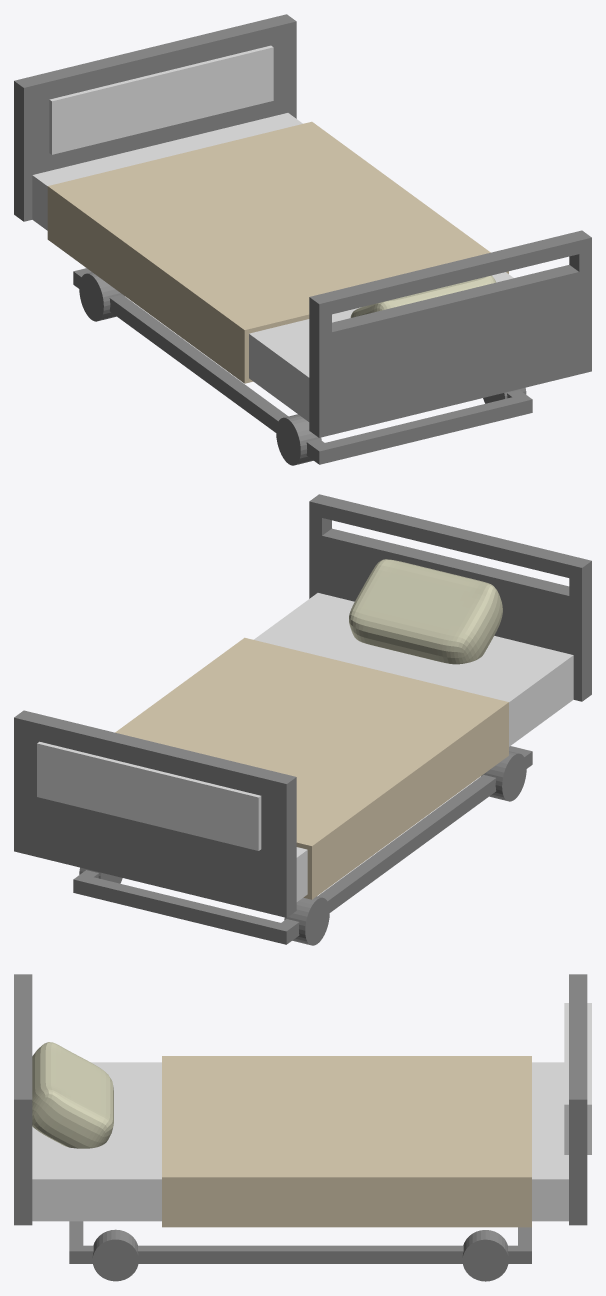
The model's file is Hospitalbed.fbx.
3 views of the same model, one above another, from view 1: azimuth 30°, elevation 25°; view 2: azimuth 150°, elevation 25°; view 3: azimuth 270°, elevation 25° (orthographic). The views are drawn at different scales.
Visible parts, largest first — view 1: Planket, Southframe, Northframe, Add_North, Mainframe, Wheelframe, Wheel.003, Wheel.002, Pillow; view 2: Planket, Northframe, Southframe, Mainframe, Add_North, Pillow, Wheelframe, Wheel.002, Wheel.003; view 3: Planket, Mainframe, Wheelframe, Pillow, Southframe, Northframe, Wheel, Wheel.001, Add_North.
Boxes of the visible parts, x1=… form: Planket: x1=47, y1=121, x2=508, y2=383; Southframe: x1=309, y1=230, x2=591, y2=437; Northframe: x1=14, y1=14, x2=296, y2=221; Add_North: x1=49, y1=45, x2=273, y2=154; Mainframe: x1=32, y1=113, x2=513, y2=421; Wheelframe: x1=73, y1=268, x2=532, y2=464; Wheel.003: x1=276, y1=414, x2=321, y2=465; Wheel.002: x1=79, y1=272, x2=124, y2=321; Pillow: x1=350, y1=275, x2=495, y2=317; Planket: x1=115, y1=637, x2=508, y2=899; Northframe: x1=14, y1=710, x2=296, y2=917; Southframe: x1=309, y1=494, x2=591, y2=701; Mainframe: x1=254, y1=593, x2=573, y2=901; Add_North: x1=37, y1=741, x2=261, y2=850; Pillow: x1=349, y1=559, x2=502, y2=664; Wheelframe: x1=73, y1=746, x2=532, y2=944; Wheel.002: x1=284, y1=896, x2=329, y2=945; Wheel.003: x1=481, y1=751, x2=526, y2=801; Planket: x1=162, y1=1056, x2=531, y2=1227; Mainframe: x1=32, y1=1062, x2=568, y2=1221; Wheelframe: x1=69, y1=1221, x2=531, y2=1263; Pillow: x1=32, y1=1042, x2=113, y2=1148; Southframe: x1=14, y1=974, x2=32, y2=1225; Northframe: x1=569, y1=974, x2=587, y2=1225; Wheel: x1=92, y1=1229, x2=138, y2=1281; Wheel.001: x1=462, y1=1230, x2=508, y2=1281; Add_North: x1=564, y1=1003, x2=591, y2=1154.
Size of the model in its own units: 320 by 230 by 625.
